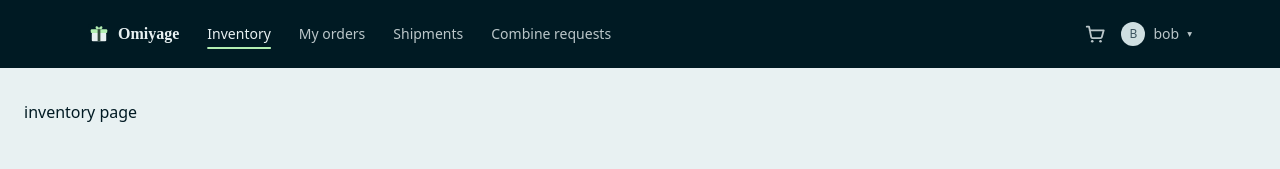
Layout account menu › logs out and navigates to Profile from the dropdown, closing it after
This screenshot has width=1280, height=169.
What coordinates should you click on to do the following:
click the text "bob"
I would click on:
 (1166, 34)
Its box is x1=1154 y1=24 x2=1179 y2=44.
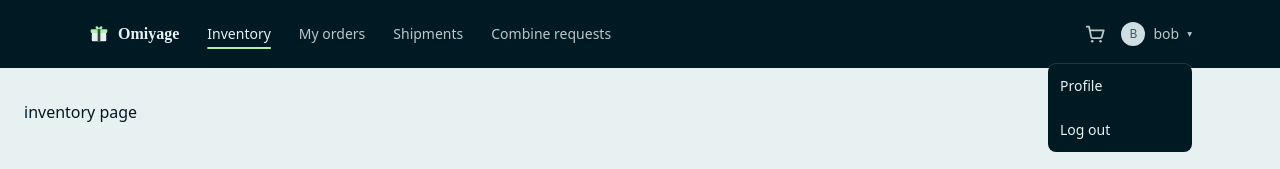
What coordinates should you click on to do the following:
click the link "Profile"
I would click on:
 (1081, 86)
Its box is x1=1060 y1=76 x2=1102 y2=95.
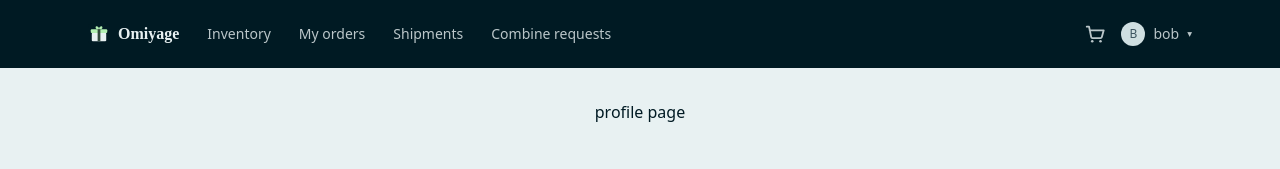
Expected: the text "profile page" is shown, x1=595 y1=100 x2=685 y2=124
